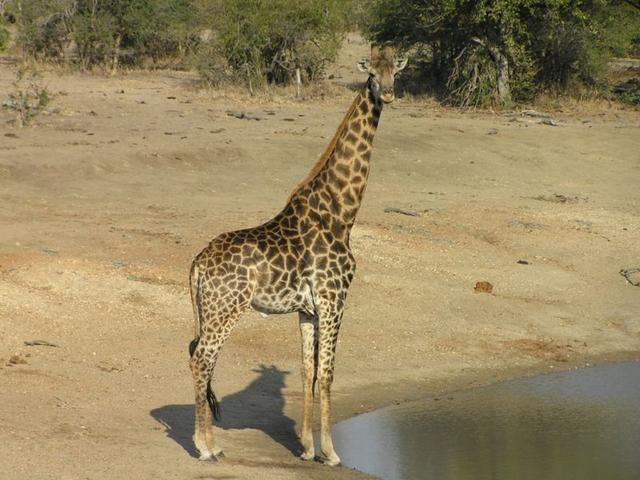giraffe: (149, 30, 455, 469)
